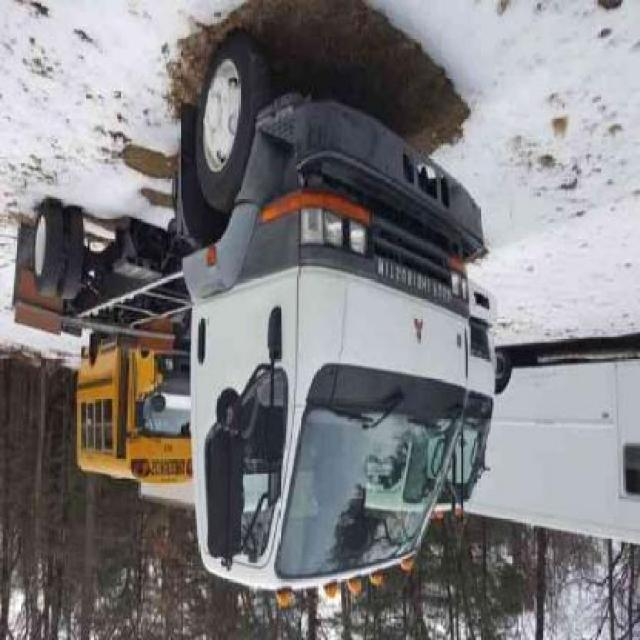truck: (13, 33, 487, 593)
